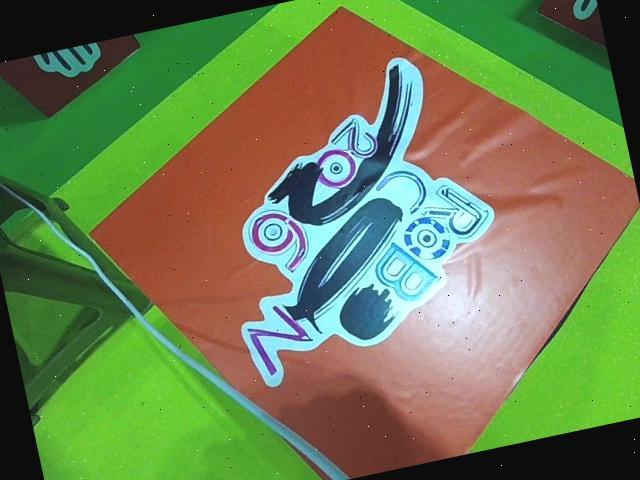R1: (52, 0, 640, 480)
